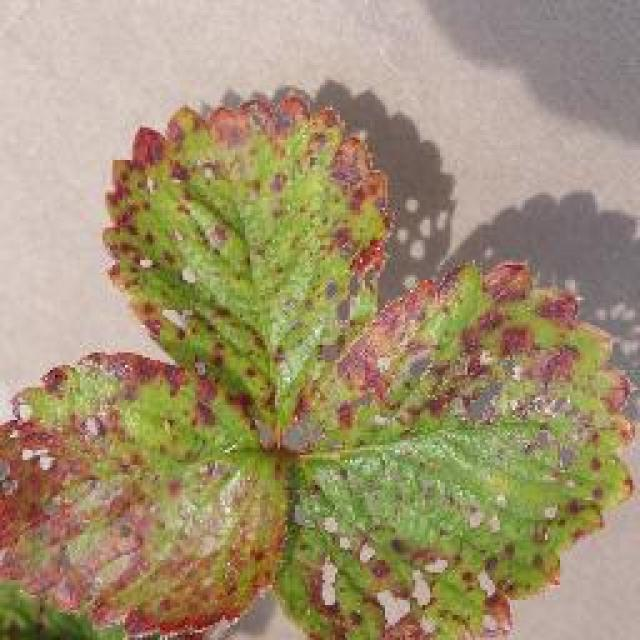Strawberry___Leaf_scorch: (2, 37, 637, 640)
